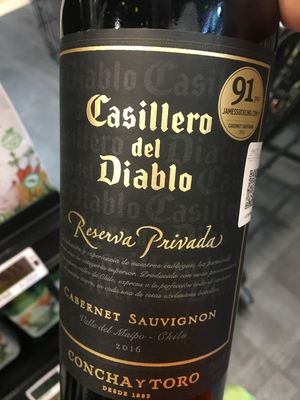casillero del diablo reserva privada cabernet sauvignon: (49, 4, 288, 400)
